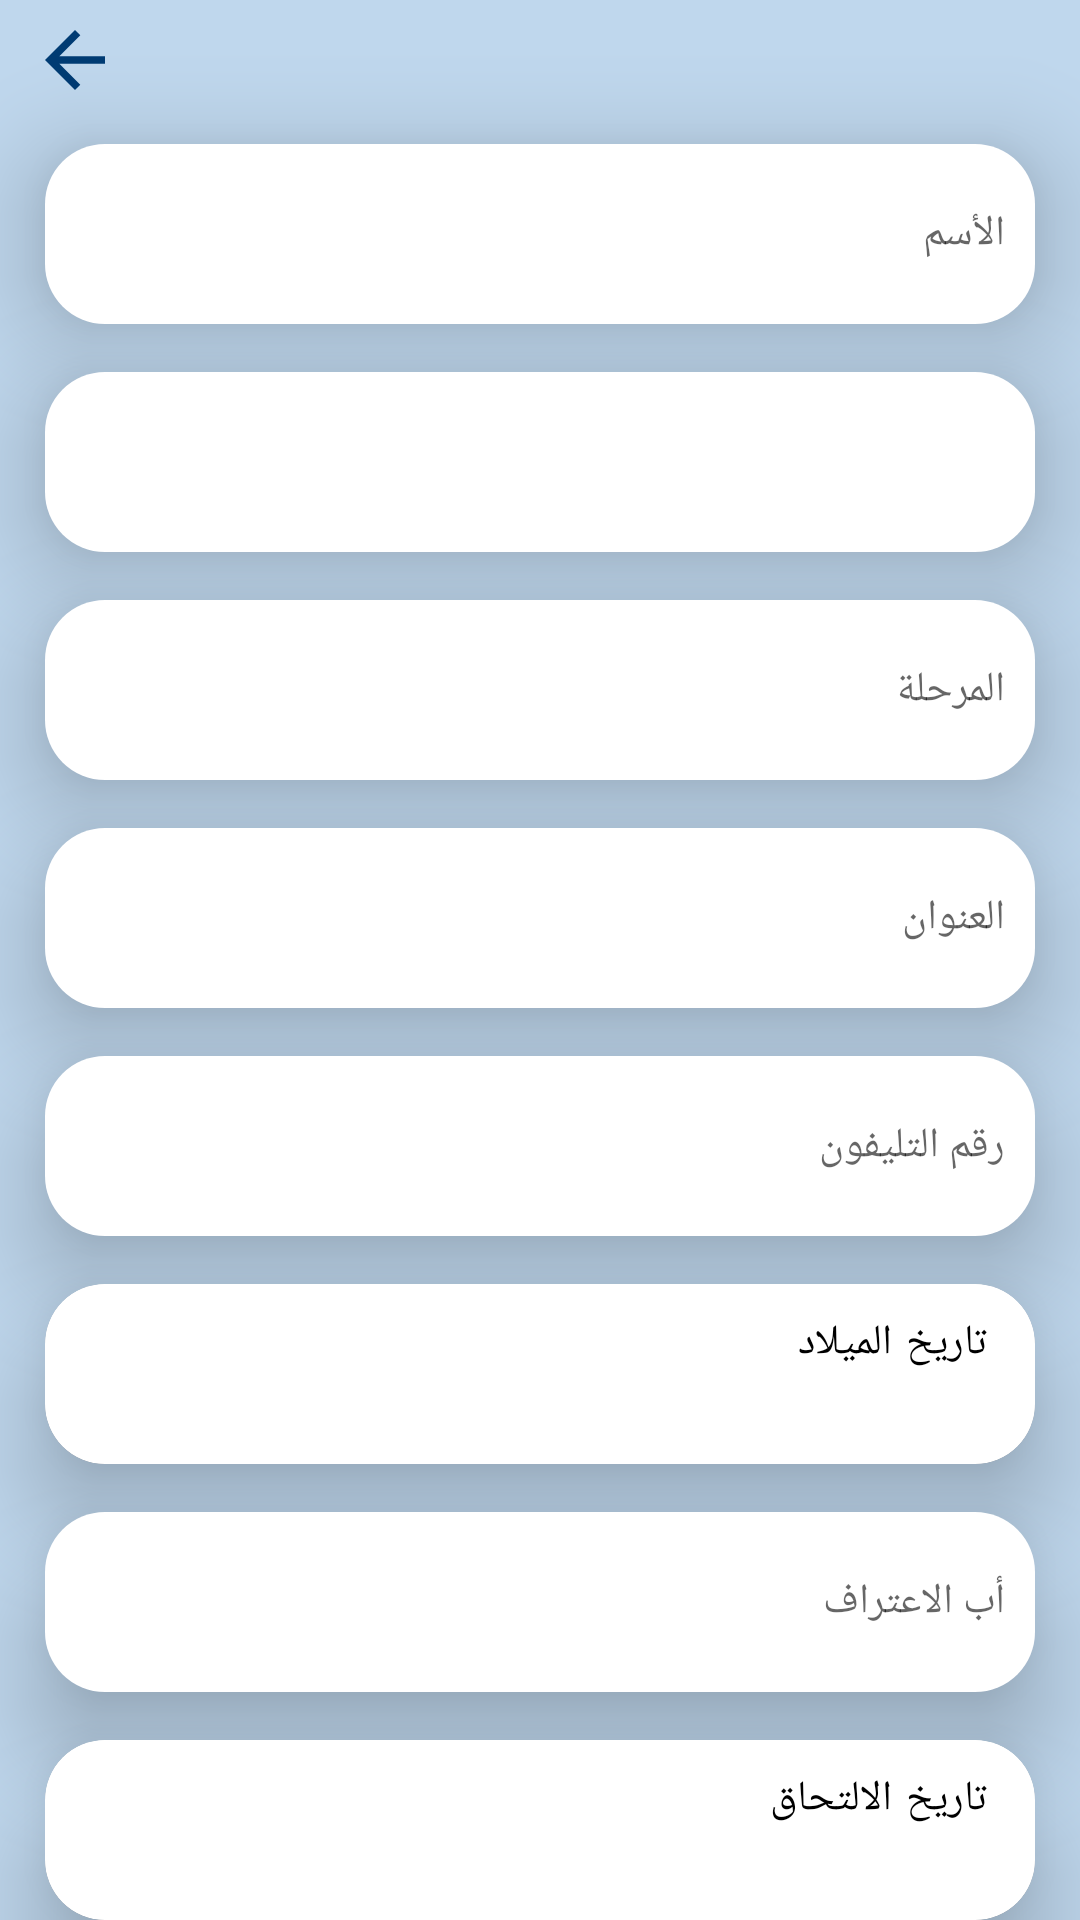

Icon bounding boxes for this 1080 x 1920 phone screenshot, format (x1, y1, x2, y2):
back: (45, 30, 105, 90)
